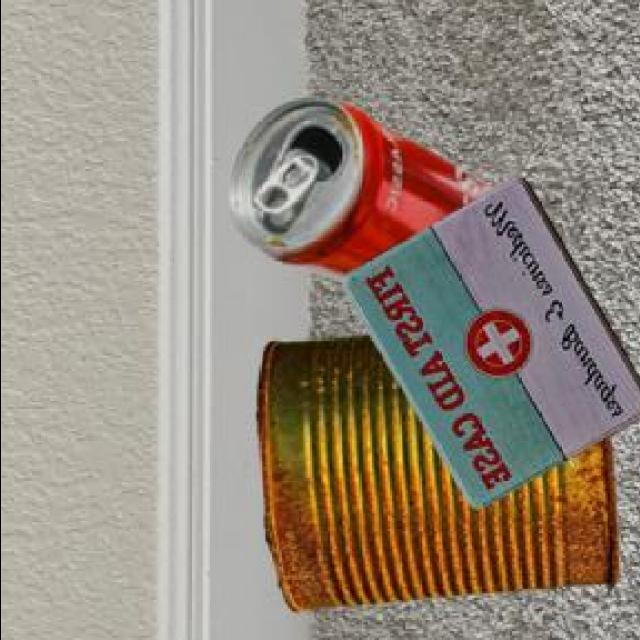logam: (339, 174, 640, 506), (252, 332, 614, 608), (226, 94, 488, 279)
